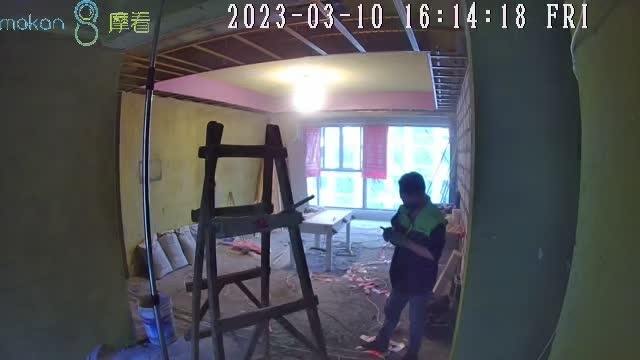people: (360, 172, 447, 360)
window: (300, 123, 450, 211)
